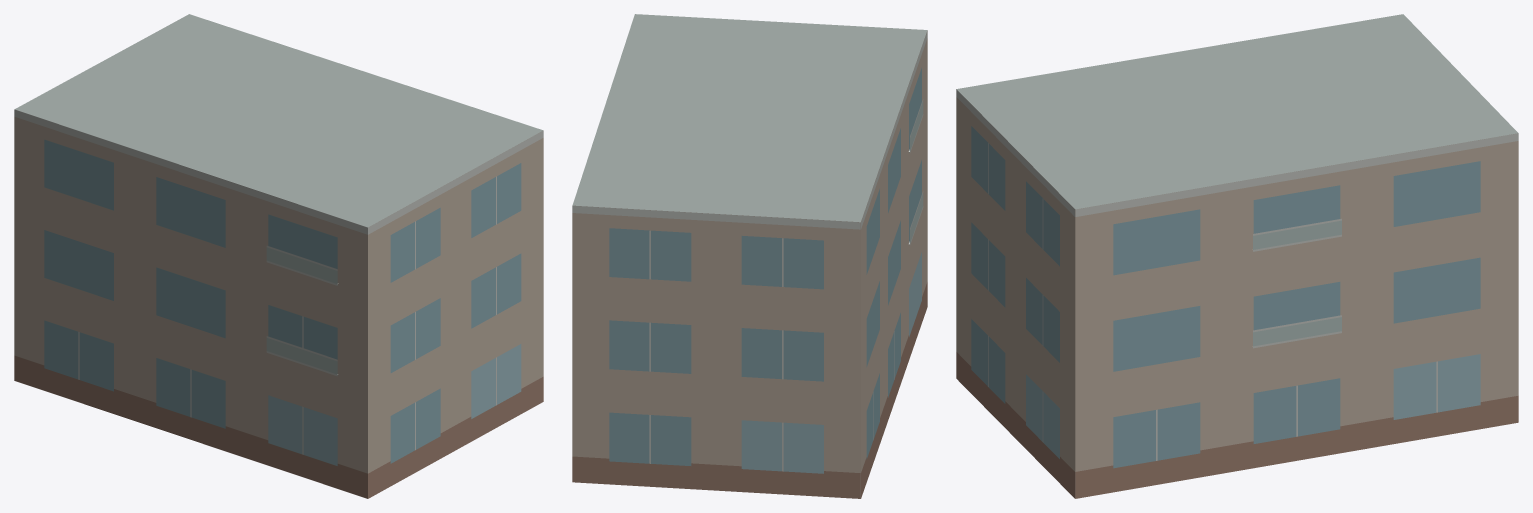
The model's file is survey-upis-33041764.glb.
3 renders of one model, left to right at view 1: azimuth 30°, elevation 25°; view 2: azimuth 150°, elevation 25°; view 3: azimuth 270°, elevation 25°, orthographic. The views are drawn at different scales.
Visible parts, largest first — view 1: survey-upis-33041764.tmp; view 2: survey-upis-33041764.tmp; view 3: survey-upis-33041764.tmp.
Boxes of the visible parts, <box> form: survey-upis-33041764.tmp: <box>14,14,543,498</box>; survey-upis-33041764.tmp: <box>572,14,927,498</box>; survey-upis-33041764.tmp: <box>956,14,1518,498</box>.
Bounding box in the file's own units: 13.26 × 9.15 × 16.12.
